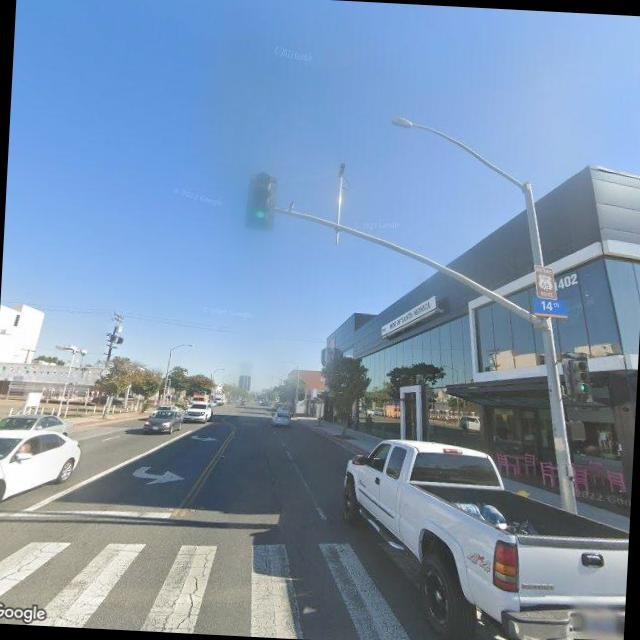crack: (144, 540, 222, 632)
